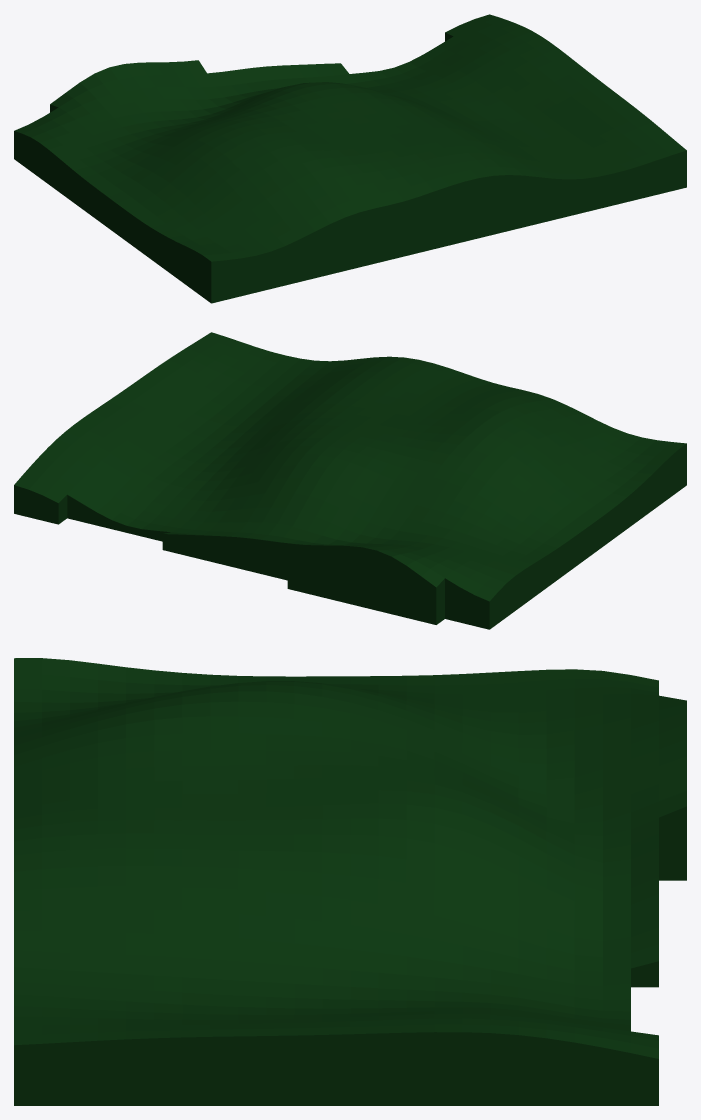
The model's file is terain.gltf.
3 renders of one model, top to bottom at view 1: azimuth 30°, elevation 25°; view 2: azimuth 150°, elevation 25°; view 3: azimuth 270°, elevation 25°, orthographic. The views are drawn at different scales.
Parts seen in each view (by area): view 1: основа; view 2: основа; view 3: основа.
Boxes of the visible parts, left/top/right/bottom form: основа: left=14, top=14, right=686, bottom=303; основа: left=14, top=332, right=686, bottom=629; основа: left=14, top=658, right=686, bottom=1105.
Bounding box in the file's own units: 33.78 × 5.47 × 25.33.
